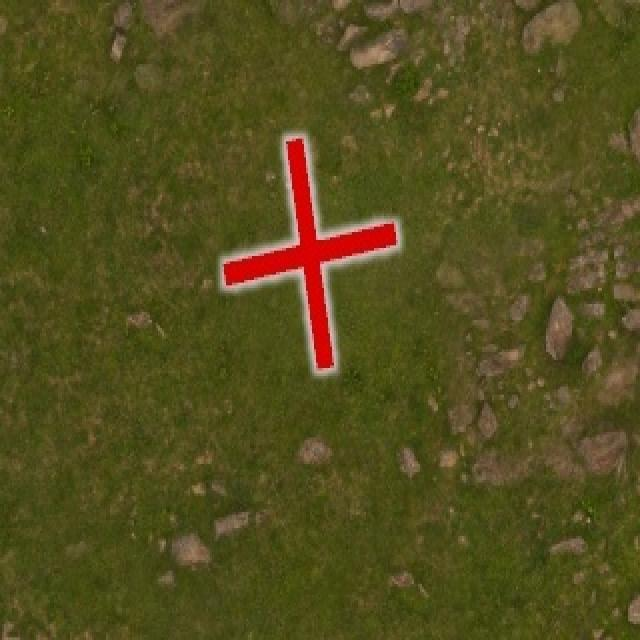x_marker: (223, 138, 397, 370)
